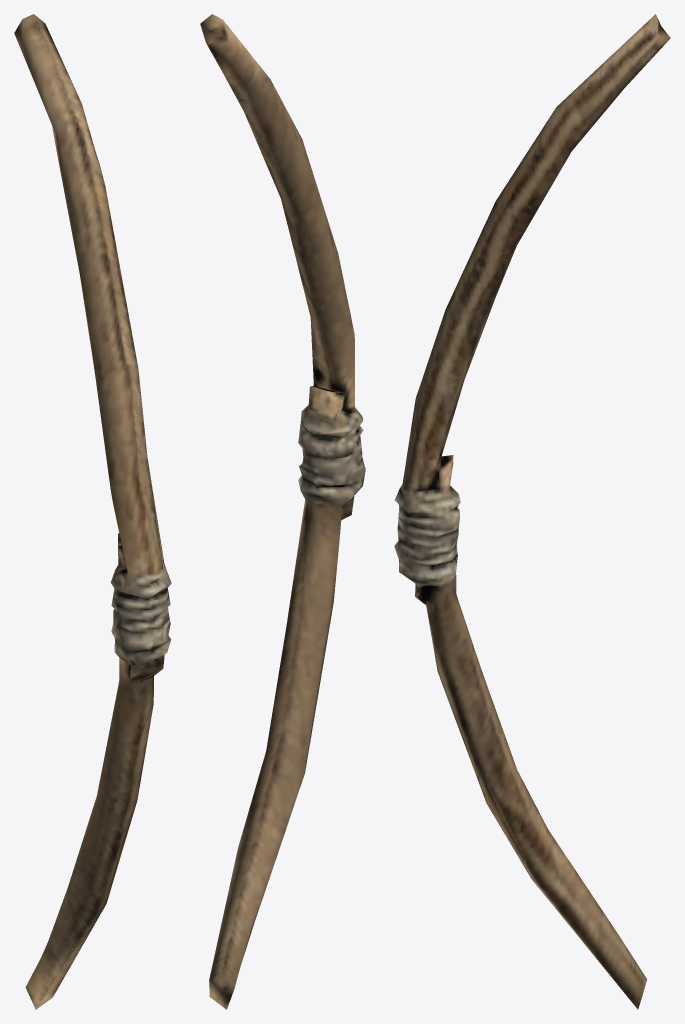
The model's file is Bow.fbx.
The picture shows the model from 3 angles, left to right: view 1: azimuth 30°, elevation 25°; view 2: azimuth 150°, elevation 25°; view 3: azimuth 270°, elevation 25°; orthographic projection.
Parts seen in each view (by area): view 1: bow; view 2: bow; view 3: bow.
Boxes of the visible parts, left/top/right/bottom form: bow: left=14, top=14, right=171, bottom=1009; bow: left=200, top=14, right=365, bottom=1009; bow: left=394, top=14, right=670, bottom=1009.
Size of the model in its own units: 8.18 by 143 by 36.03.
1 material, 1 textured.
